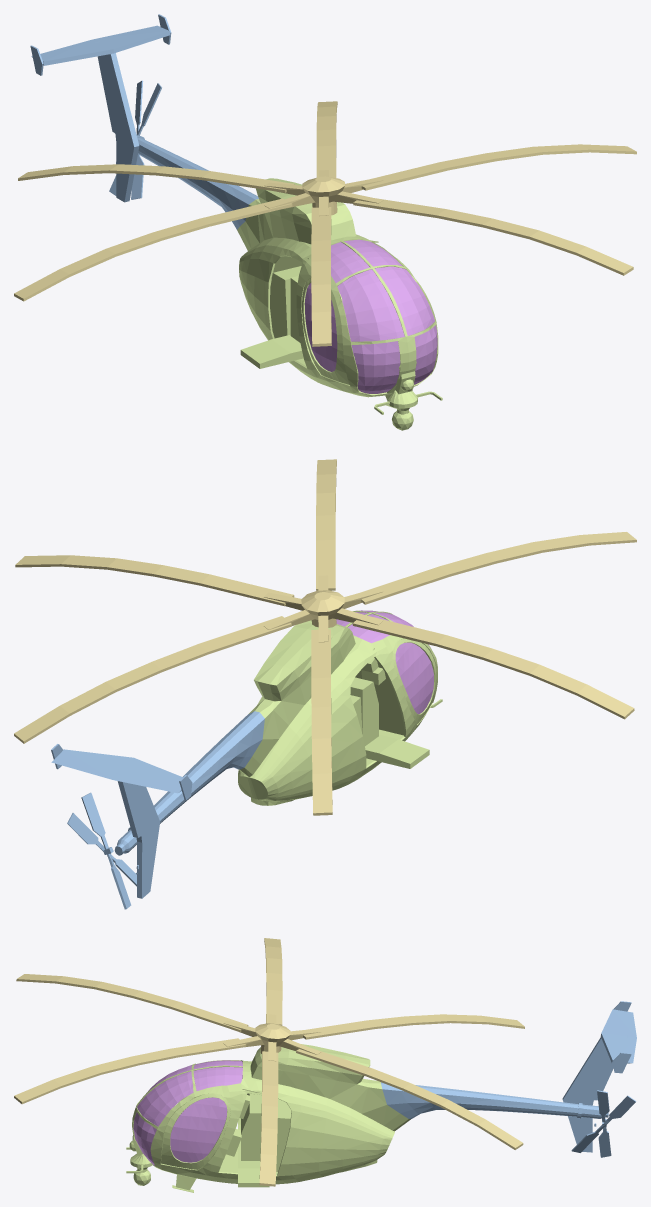
The model's file is air-rotary-littlebird--rot-03-machineguns.glb.
The picture shows the model from 3 angles, top to bottom: view 1: azimuth 30°, elevation 25°; view 2: azimuth 150°, elevation 25°; view 3: azimuth 270°, elevation 25°; orthographic projection. The views are drawn at different scales.
Visible parts, largest first — view 1: CC_ROT_03_Attack, CC_ROT_03_RotorBlades, CC_ROT_03_MainRotor, CC_ROT_03_BackMount, CC_ROT_03_RearRotor_Blades; view 2: CC_ROT_03_Attack, CC_ROT_03_RotorBlades, CC_ROT_03_MainRotor, CC_ROT_03_BackMount, CC_ROT_03_RearRotor_Blades; view 3: CC_ROT_03_Attack, CC_ROT_03_RotorBlades, CC_ROT_03_BackMount, CC_ROT_03_MainRotor, CC_ROT_03_RearRotor_Blades.
Part boxes in pixels (x1,y1,x2,y2): CC_ROT_03_Attack: [30, 14, 442, 430]; CC_ROT_03_RotorBlades: [14, 101, 636, 346]; CC_ROT_03_MainRotor: [264, 170, 383, 216]; CC_ROT_03_BackMount: [240, 276, 303, 368]; CC_ROT_03_RearRotor_Blades: [109, 80, 161, 199]; CC_ROT_03_Attack: [51, 610, 442, 898]; CC_ROT_03_RotorBlades: [14, 459, 636, 815]; CC_ROT_03_MainRotor: [264, 575, 383, 642]; CC_ROT_03_BackMount: [350, 677, 429, 768]; CC_ROT_03_RearRotor_Blades: [67, 792, 136, 909]; CC_ROT_03_Attack: [126, 1001, 636, 1192]; CC_ROT_03_RotorBlades: [14, 938, 524, 1186]; CC_ROT_03_BackMount: [238, 1093, 269, 1187]; CC_ROT_03_MainRotor: [223, 1014, 320, 1061]; CC_ROT_03_RearRotor_Blades: [571, 1090, 636, 1157].
Size of the model in its own units: 8.35 by 2.53 by 8.95.
